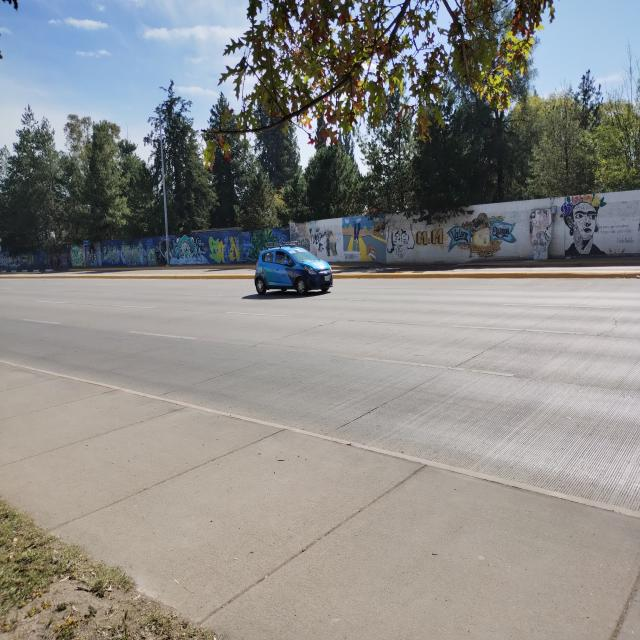Auto: (252, 241, 334, 293)
